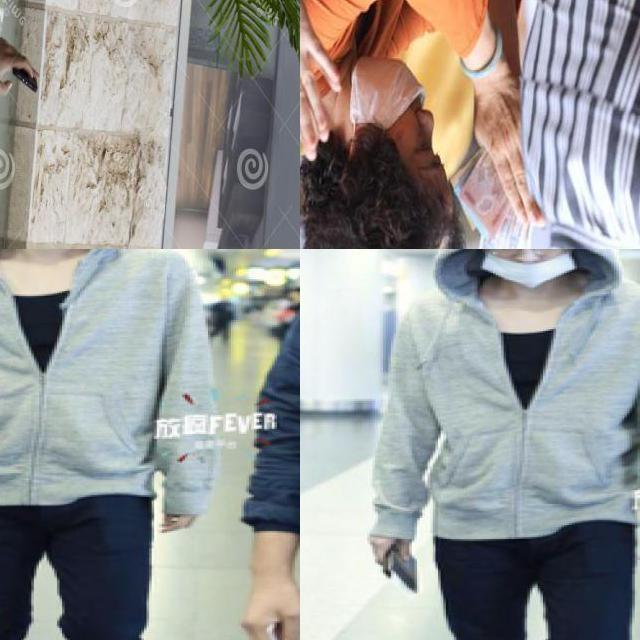hairnet: (347, 57, 439, 143), (478, 251, 581, 291)
